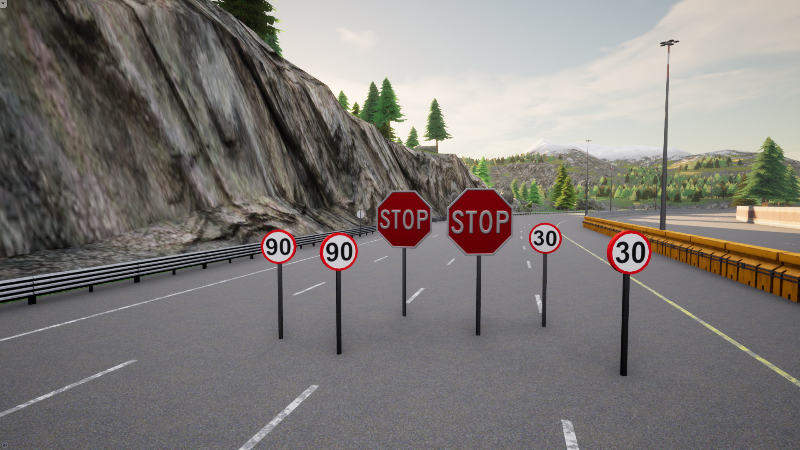fast: (319, 232, 358, 271), (261, 230, 297, 264)
slow: (607, 229, 652, 274), (528, 223, 563, 254)
stop: (446, 188, 514, 255), (376, 190, 433, 248)
